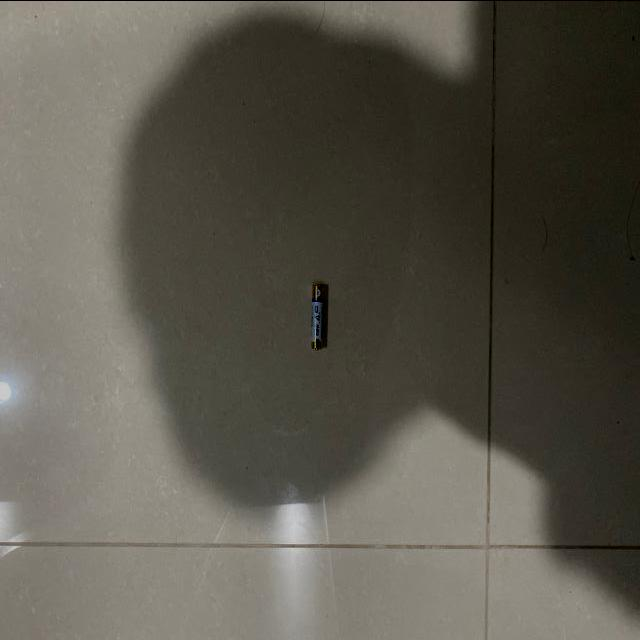AAA: (311, 282, 324, 350)
